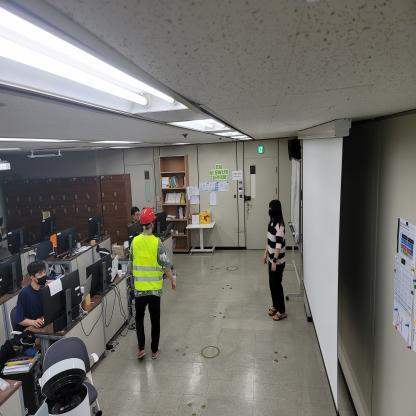Standing: (130, 209, 177, 359), (264, 200, 286, 320)
safety_equipment: (132, 233, 164, 291), (139, 207, 157, 225)
